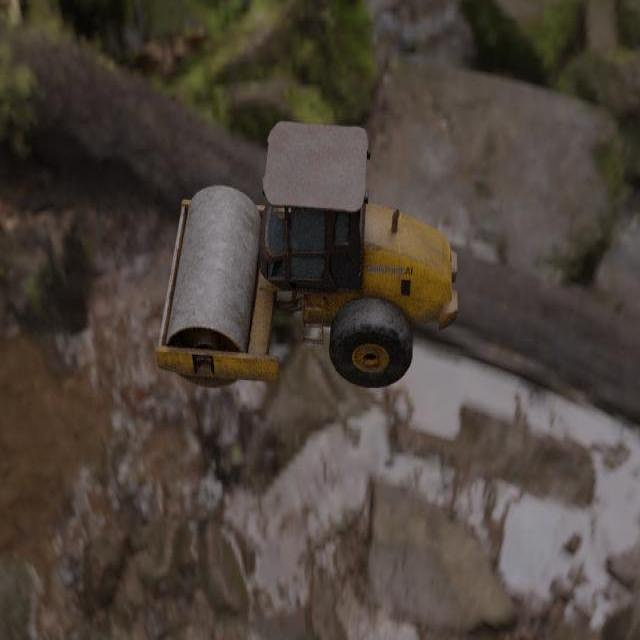Roller: (155, 120, 457, 388)
